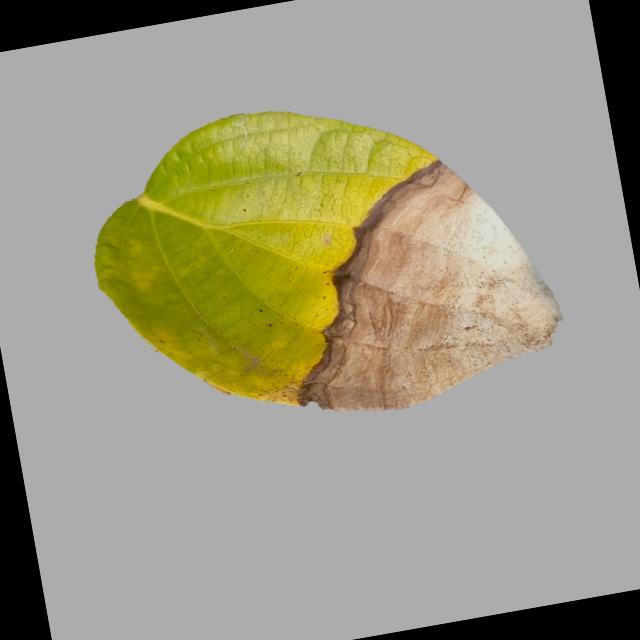leaf-blight: (61, 68, 574, 464)
